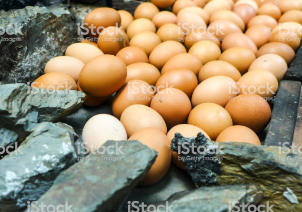egg: (125, 125, 174, 189), (76, 51, 130, 98), (80, 111, 129, 158), (119, 101, 169, 145), (164, 121, 208, 170), (147, 83, 194, 128), (224, 90, 274, 130), (185, 99, 232, 141), (213, 121, 264, 159), (110, 77, 155, 115), (191, 73, 239, 107), (26, 70, 83, 95), (194, 57, 245, 84), (81, 3, 124, 33), (149, 37, 187, 70), (235, 67, 279, 95), (40, 51, 86, 77), (62, 38, 106, 65), (95, 24, 130, 57), (254, 36, 298, 62), (159, 66, 201, 93), (205, 18, 247, 45), (158, 51, 208, 73), (120, 60, 162, 86), (247, 52, 289, 78), (125, 27, 162, 53), (155, 19, 186, 47)
stone: (26, 136, 161, 211), (4, 119, 86, 192), (1, 81, 94, 127), (150, 181, 272, 211)
